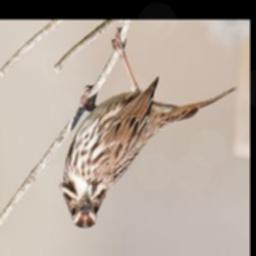Sparrow: (57, 26, 240, 231)
